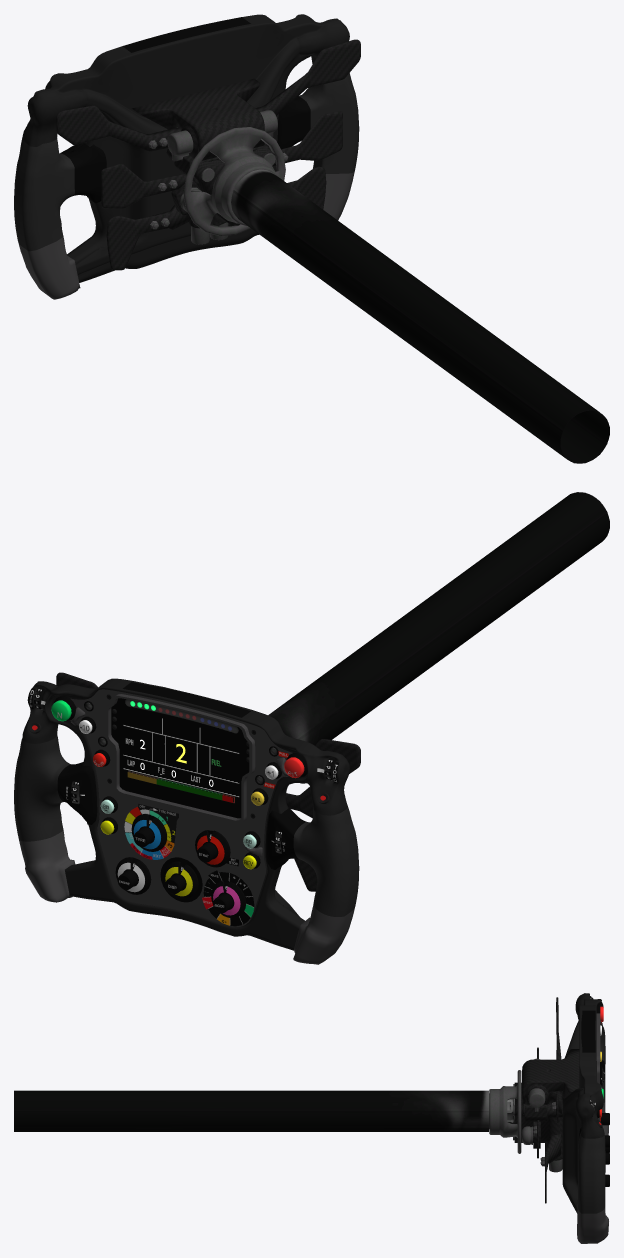
Rendered from steering-wheel.glb.
The picture shows the model from 3 angles, top to bottom: view 1: azimuth 30°, elevation 25°; view 2: azimuth 150°, elevation 25°; view 3: azimuth 270°, elevation 25°; orthographic projection. The views are drawn at different scales.
Parts seen in each view (by area): view 1: gp_2022_rb18.038, SteeringWheel.Direction, gp_2022_rb18.048, gp_2022_rb18.036, gp_2022_rb18.049, gp_2022_rb18.037, gp_2022_rb18.034, gp_2022_rb18.041; view 2: SteeringWheel.Direction, gp_2022_rb18.037, gp_2022_rb18.038, gp_2022_rb18.036, gp_2022_rb18.034, gp_2022_rb18.032, gp_2022_rb18.046, gp_2022_rb18.040, gp_2022_rb18.048, gp_2022_rb18.041; view 3: SteeringWheel.Direction, gp_2022_rb18.048, gp_2022_rb18.038, gp_2022_rb18.049, gp_2022_rb18.036, gp_2022_rb18.037, gp_2022_rb18.041, gp_2022_rb18.034.
Boxes of the visible parts, left/top/right/bottom form: gp_2022_rb18.038: left=22, top=14, right=349, bottom=282; SteeringWheel.Direction: left=231, top=169, right=609, bottom=463; gp_2022_rb18.048: left=56, top=39, right=360, bottom=270; gp_2022_rb18.036: left=14, top=73, right=359, bottom=251; gp_2022_rb18.049: left=148, top=110, right=288, bottom=244; gp_2022_rb18.037: left=19, top=165, right=354, bottom=299; gp_2022_rb18.034: left=60, top=96, right=310, bottom=203; gp_2022_rb18.041: left=123, top=17, right=250, bottom=52; SteeringWheel.Direction: left=268, top=492, right=609, bottom=745; gp_2022_rb18.037: left=19, top=689, right=354, bottom=964; gp_2022_rb18.038: left=22, top=678, right=349, bottom=950; gp_2022_rb18.036: left=14, top=735, right=359, bottom=916; gp_2022_rb18.034: left=54, top=696, right=307, bottom=917; gp_2022_rb18.032: left=28, top=688, right=338, bottom=926; gp_2022_rb18.046: left=123, top=709, right=239, bottom=807; gp_2022_rb18.040: left=111, top=698, right=249, bottom=818; gp_2022_rb18.048: left=56, top=672, right=360, bottom=891; gp_2022_rb18.041: left=123, top=682, right=250, bottom=717; SteeringWheel.Direction: left=14, top=1090, right=514, bottom=1131; gp_2022_rb18.048: left=514, top=997, right=579, bottom=1203; gp_2022_rb18.038: left=562, top=993, right=604, bottom=1213; gp_2022_rb18.049: left=489, top=1058, right=562, bottom=1172; gp_2022_rb18.036: left=577, top=1032, right=605, bottom=1213; gp_2022_rb18.037: left=577, top=1013, right=608, bottom=1243; gp_2022_rb18.041: left=581, top=1010, right=595, bottom=1052; gp_2022_rb18.034: left=579, top=1005, right=609, bottom=1186.
Size of the model in its own units: 0.2682 by 0.1753 by 0.5729.
Materials: 24 (21 with a texture image).
